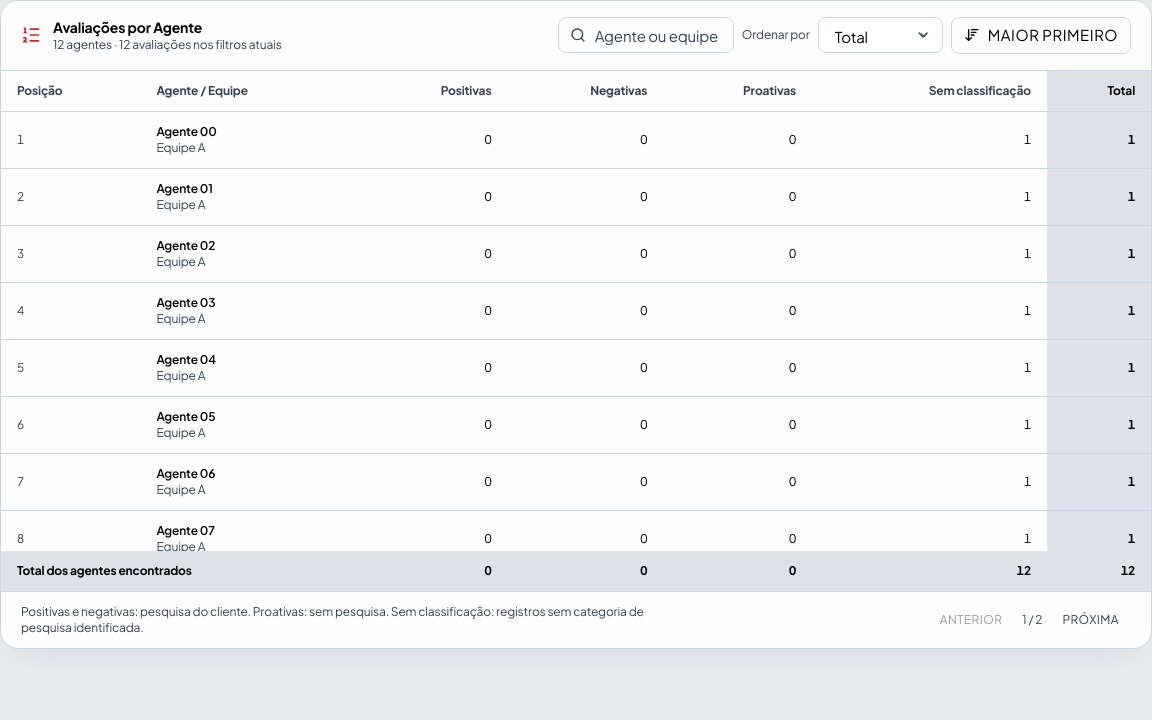
Test: AgentEvaluationVolumeTable › paginates all agents and keeps totals across pages, with unclassified records visible
Expected: the column heading "Sem classificação" is shown, [812, 70, 1047, 111]
Expected: the text "12 agentes · 12 avaliações nos filtros atuais" is shown, [53, 37, 282, 53]
Click the button "Próxima" at (1091, 620), box [1050, 606, 1131, 634]
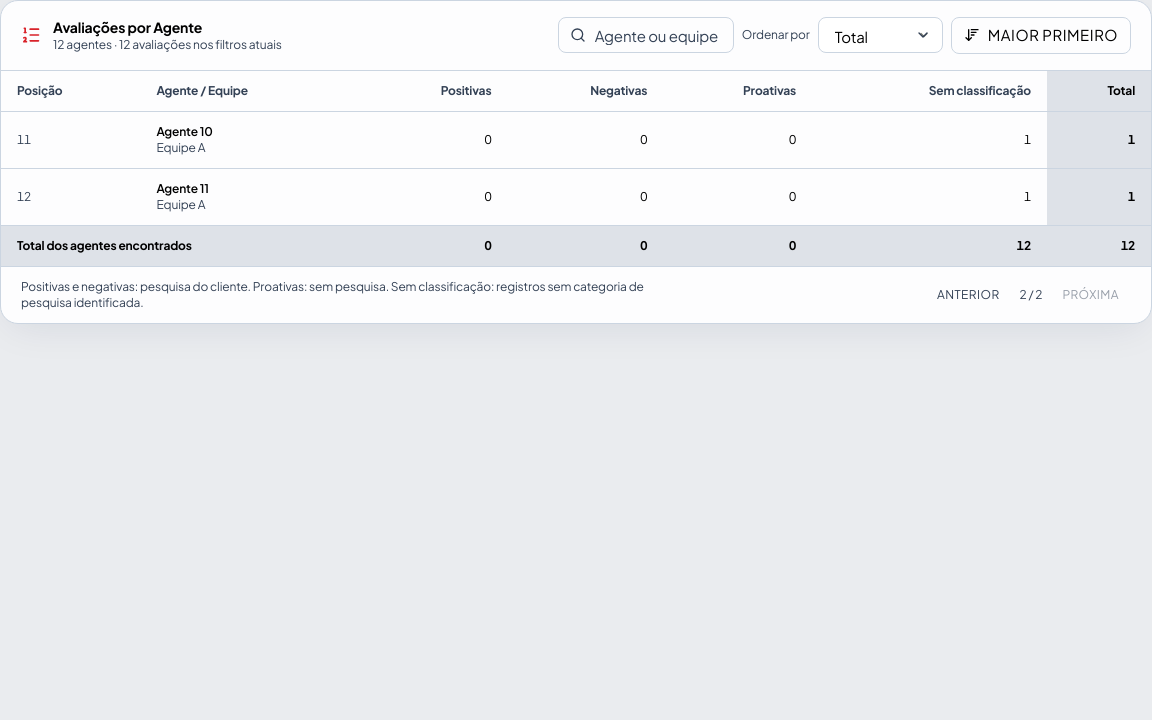
Expected: the 3rd cell "12" is shown, [1047, 225, 1151, 266]
Expected: the column heading "Agente 11" is shown, [156, 180, 209, 196]
Select "Negativas" in the dropdown at (880, 35), box [818, 17, 943, 53]
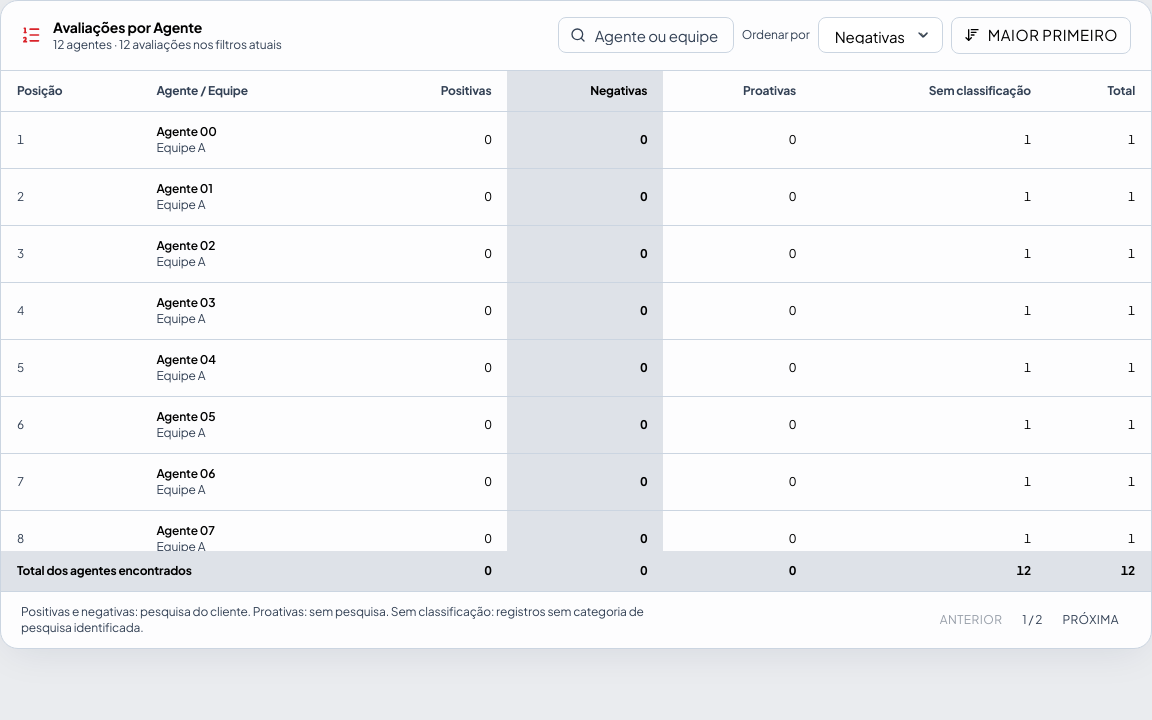
Expected: the column heading "Agente 00" is shown, [156, 124, 217, 138]
